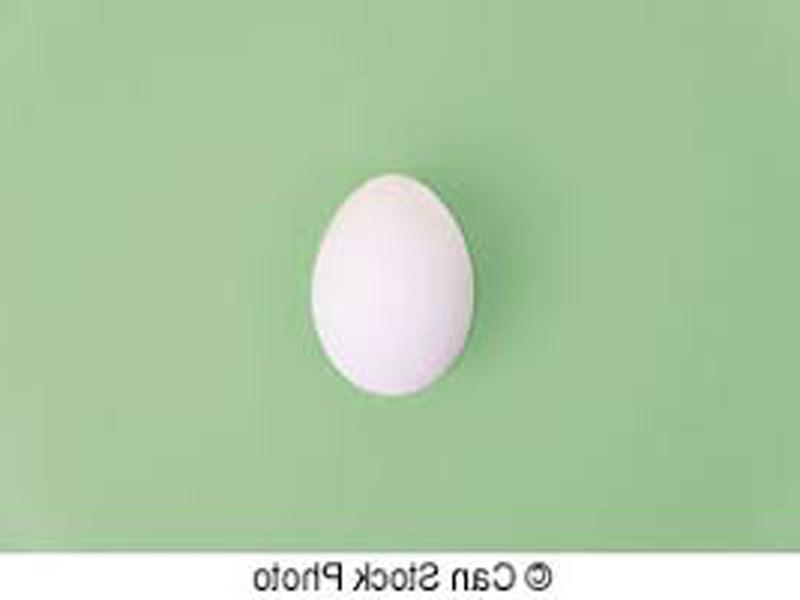Eggs: (314, 175, 472, 394)
